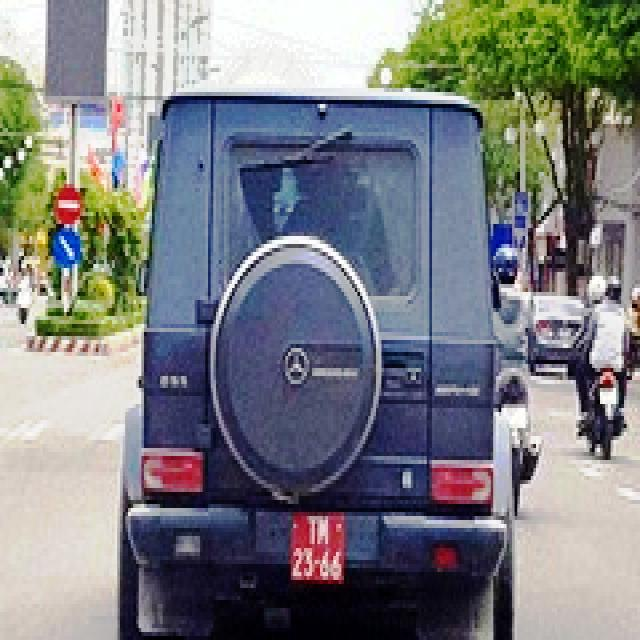license_plate: (292, 511, 347, 585)
